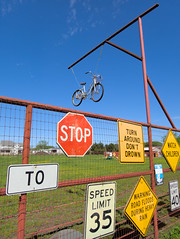StopSign: (55, 111, 92, 157)
